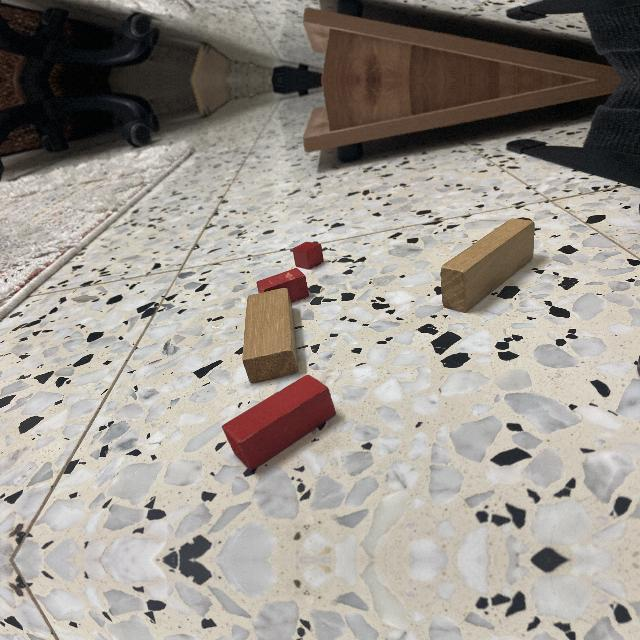jenga: (440, 218, 535, 313), (242, 288, 299, 384)
red block: (223, 373, 336, 472), (257, 269, 309, 300)
red cube: (293, 242, 324, 269)
